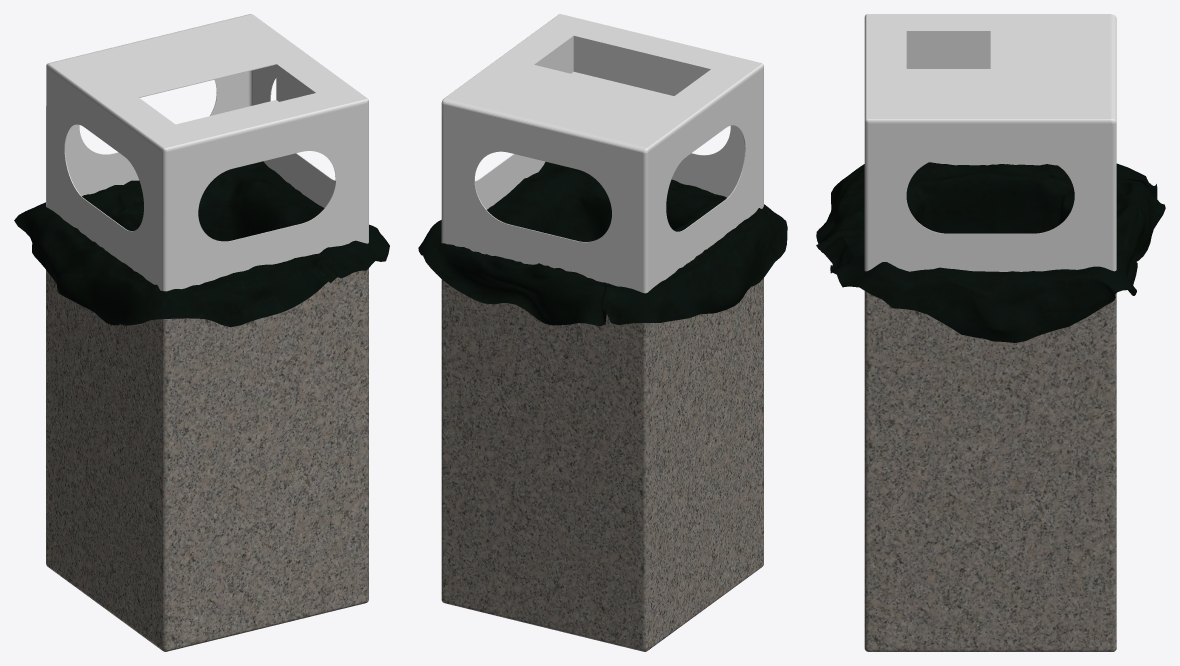
Rendered from fixture-trash-can.glb.
The picture shows the model from 3 angles, left to right: view 1: azimuth 30°, elevation 25°; view 2: azimuth 150°, elevation 25°; view 3: azimuth 270°, elevation 25°; orthographic projection. The views are drawn at different scales.
Visible parts, largest first — view 1: STONE_Material_001_0, METAL_Material_0, Circle_Material_003_0; view 2: STONE_Material_001_0, METAL_Material_0, Circle_Material_003_0; view 3: STONE_Material_001_0, METAL_Material_0, Circle_Material_003_0.
Boxes of the visible parts, box(x1,y1,x2,y2) form: STONE_Material_001_0: box(46, 268, 368, 651); METAL_Material_0: box(46, 14, 368, 291); Circle_Material_003_0: box(14, 161, 389, 327); STONE_Material_001_0: box(441, 278, 763, 651); METAL_Material_0: box(441, 14, 763, 293); Circle_Material_003_0: box(418, 162, 787, 326); STONE_Material_001_0: box(864, 291, 1116, 651); METAL_Material_0: box(864, 14, 1116, 271); Circle_Material_003_0: box(816, 162, 1165, 342).
Size of the model in its own units: 0.3974 by 0.6725 by 0.3963.
Materials: 4 (2 with a texture image).
